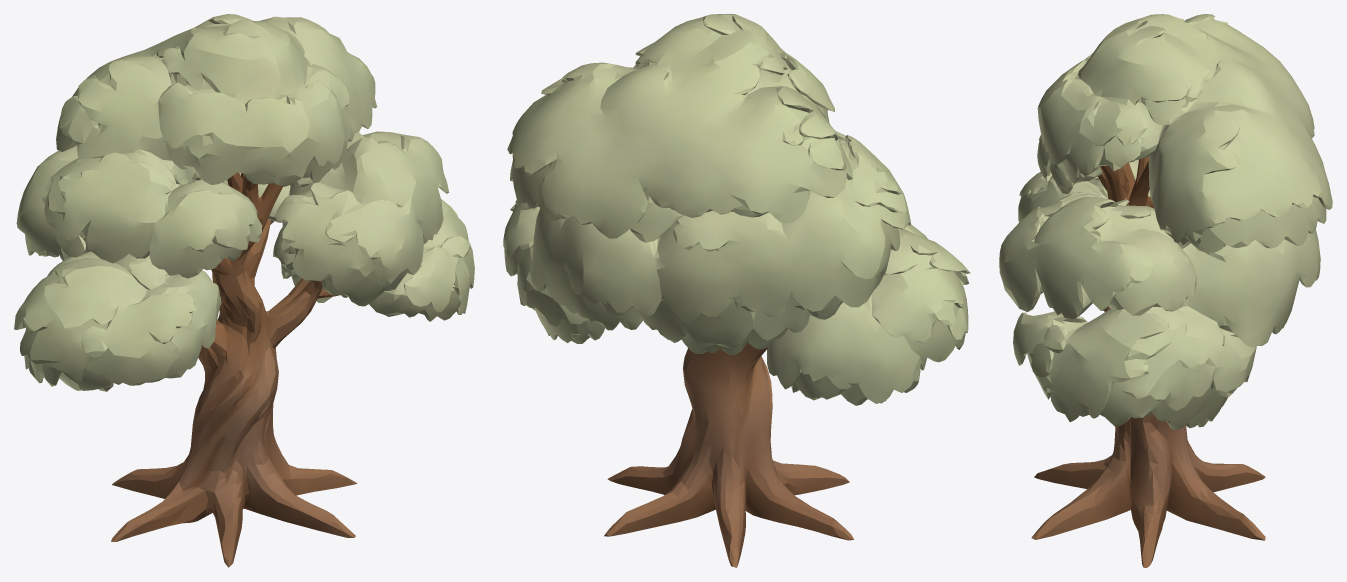
The picture shows the model from 3 angles, left to right: view 1: azimuth 30°, elevation 25°; view 2: azimuth 150°, elevation 25°; view 3: azimuth 270°, elevation 25°; orthographic projection.
Parts seen in each view (by area): view 1: Mesh; view 2: Mesh; view 3: Mesh.
Boxes of the visible parts, x1,y1,x2,y2 form: Mesh: [14, 14, 474, 567]; Mesh: [503, 14, 970, 567]; Mesh: [999, 14, 1332, 567].
Size of the model in its own units: 1.82 by 1.89 by 1.18.
1 material, 1 textured.
